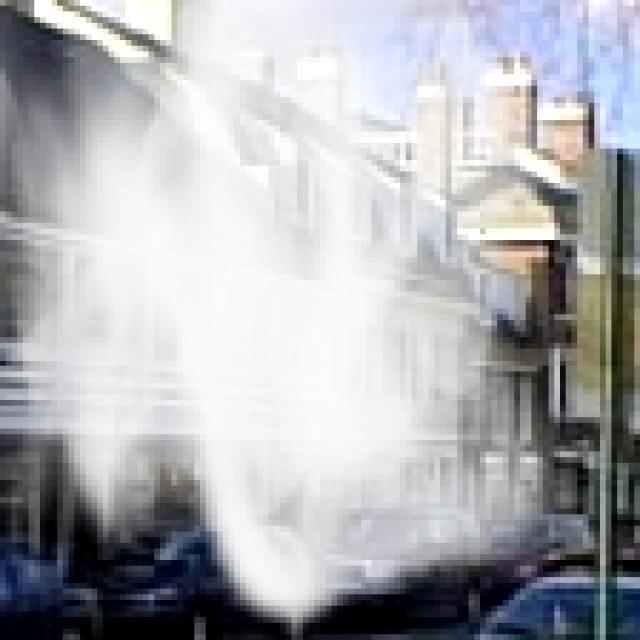smoke: (0, 0, 577, 634)
